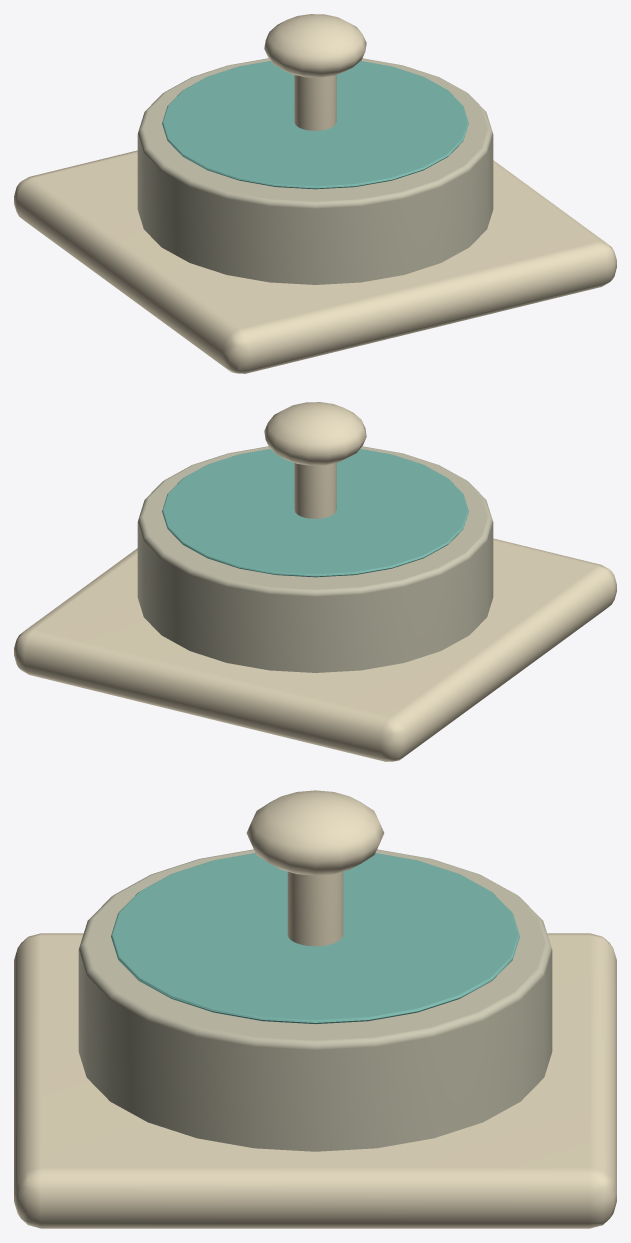
The model's file is fountain.glb.
3 renders of one model, top to bottom at view 1: azimuth 30°, elevation 25°; view 2: azimuth 150°, elevation 25°; view 3: azimuth 270°, elevation 25°, orthographic. The views are drawn at different scales.
Visible parts, largest first — view 1: Body_cream, Body_stone, Water_water; view 2: Body_cream, Body_stone, Water_water; view 3: Body_cream, Body_stone, Water_water.
Part boxes in pixels (<box>): Body_cream: <box>14,14,616,373</box>; Body_stone: <box>137,58,493,284</box>; Water_water: <box>162,61,468,189</box>; Body_cream: <box>14,402,616,761</box>; Body_stone: <box>137,446,493,672</box>; Water_water: <box>162,449,468,577</box>; Body_cream: <box>14,790,616,1228</box>; Body_stone: <box>78,849,552,1151</box>; Water_water: <box>111,853,519,1024</box>.
Size of the model in its own units: 2.8 by 1.58 by 2.8.
